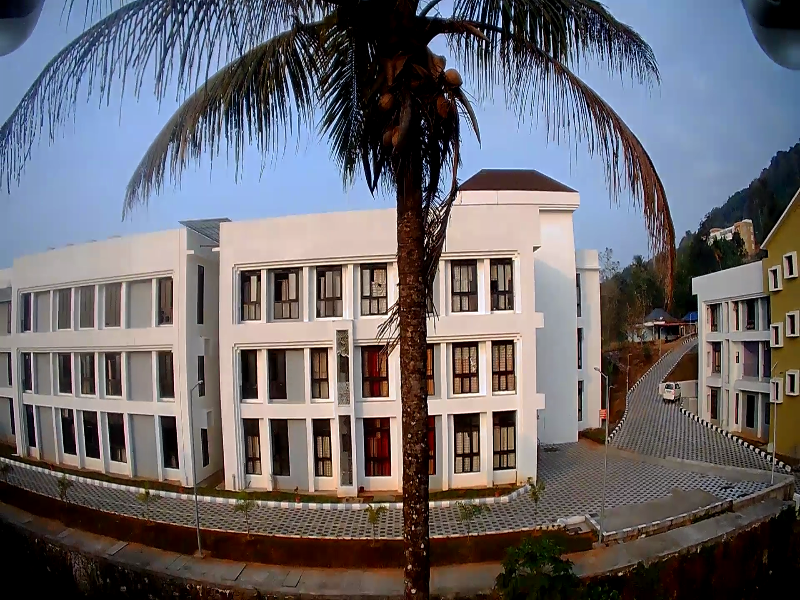coconut: (441, 66, 463, 87), (435, 95, 452, 119), (391, 129, 408, 152), (376, 129, 395, 149), (378, 92, 397, 107)
